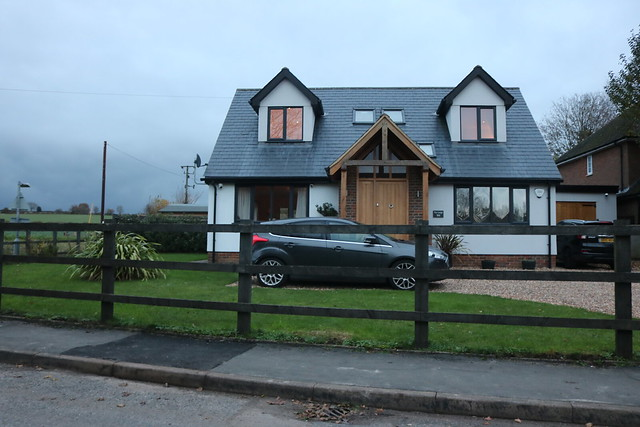low: (203, 64, 561, 281)
